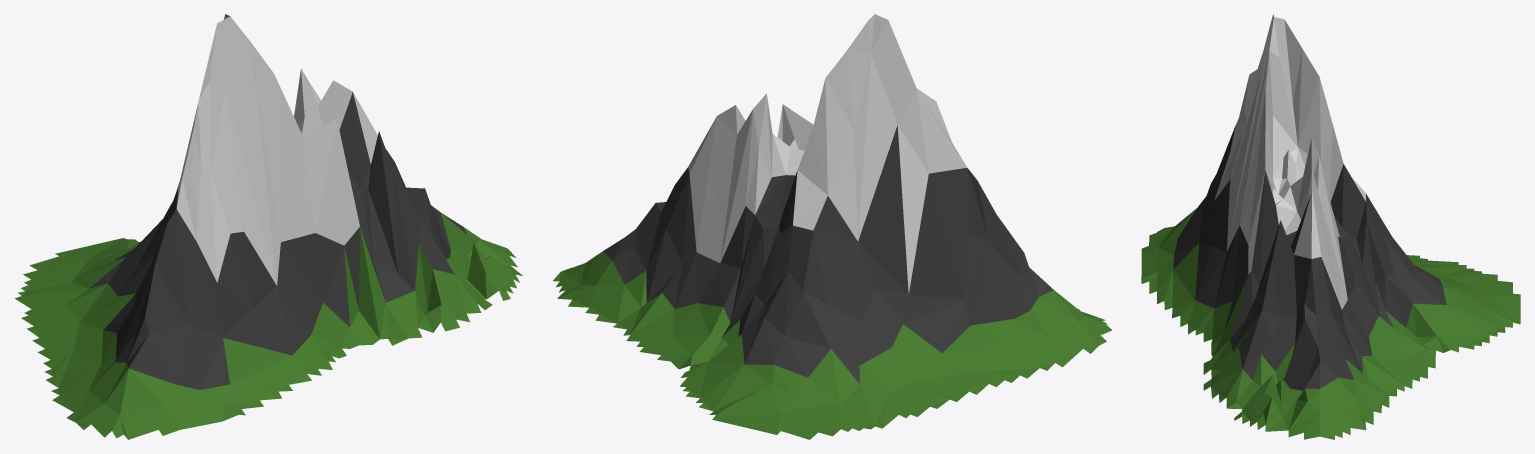
File: Mountain4.fbx
The picture shows the model from 3 angles, left to right: view 1: azimuth 30°, elevation 25°; view 2: azimuth 150°, elevation 25°; view 3: azimuth 270°, elevation 25°; orthographic projection. The views are drawn at different scales.
Visible parts, largest first — view 1: Plane.014; view 2: Plane.014; view 3: Plane.014.
Boxes of the visible parts, x1,y1,x2,y2 form: Plane.014: (14,14,522,439); Plane.014: (553,14,1111,439); Plane.014: (1141,14,1520,439).
Size of the model in its own units: 1333 by 853 by 991.
